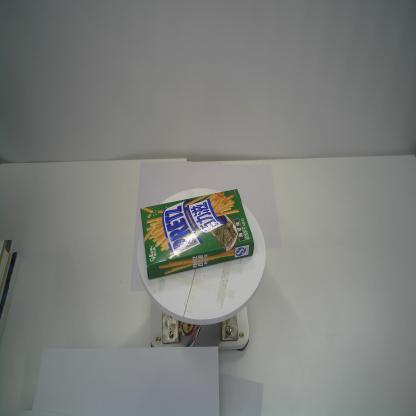Dessert: (141, 186, 254, 280)
